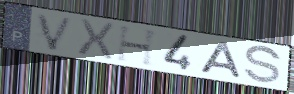4: (161, 32, 197, 73)
A: (197, 40, 245, 81)
H: (115, 24, 161, 69)
S: (242, 45, 284, 86)
V: (34, 11, 76, 53)
X: (75, 16, 117, 61)
